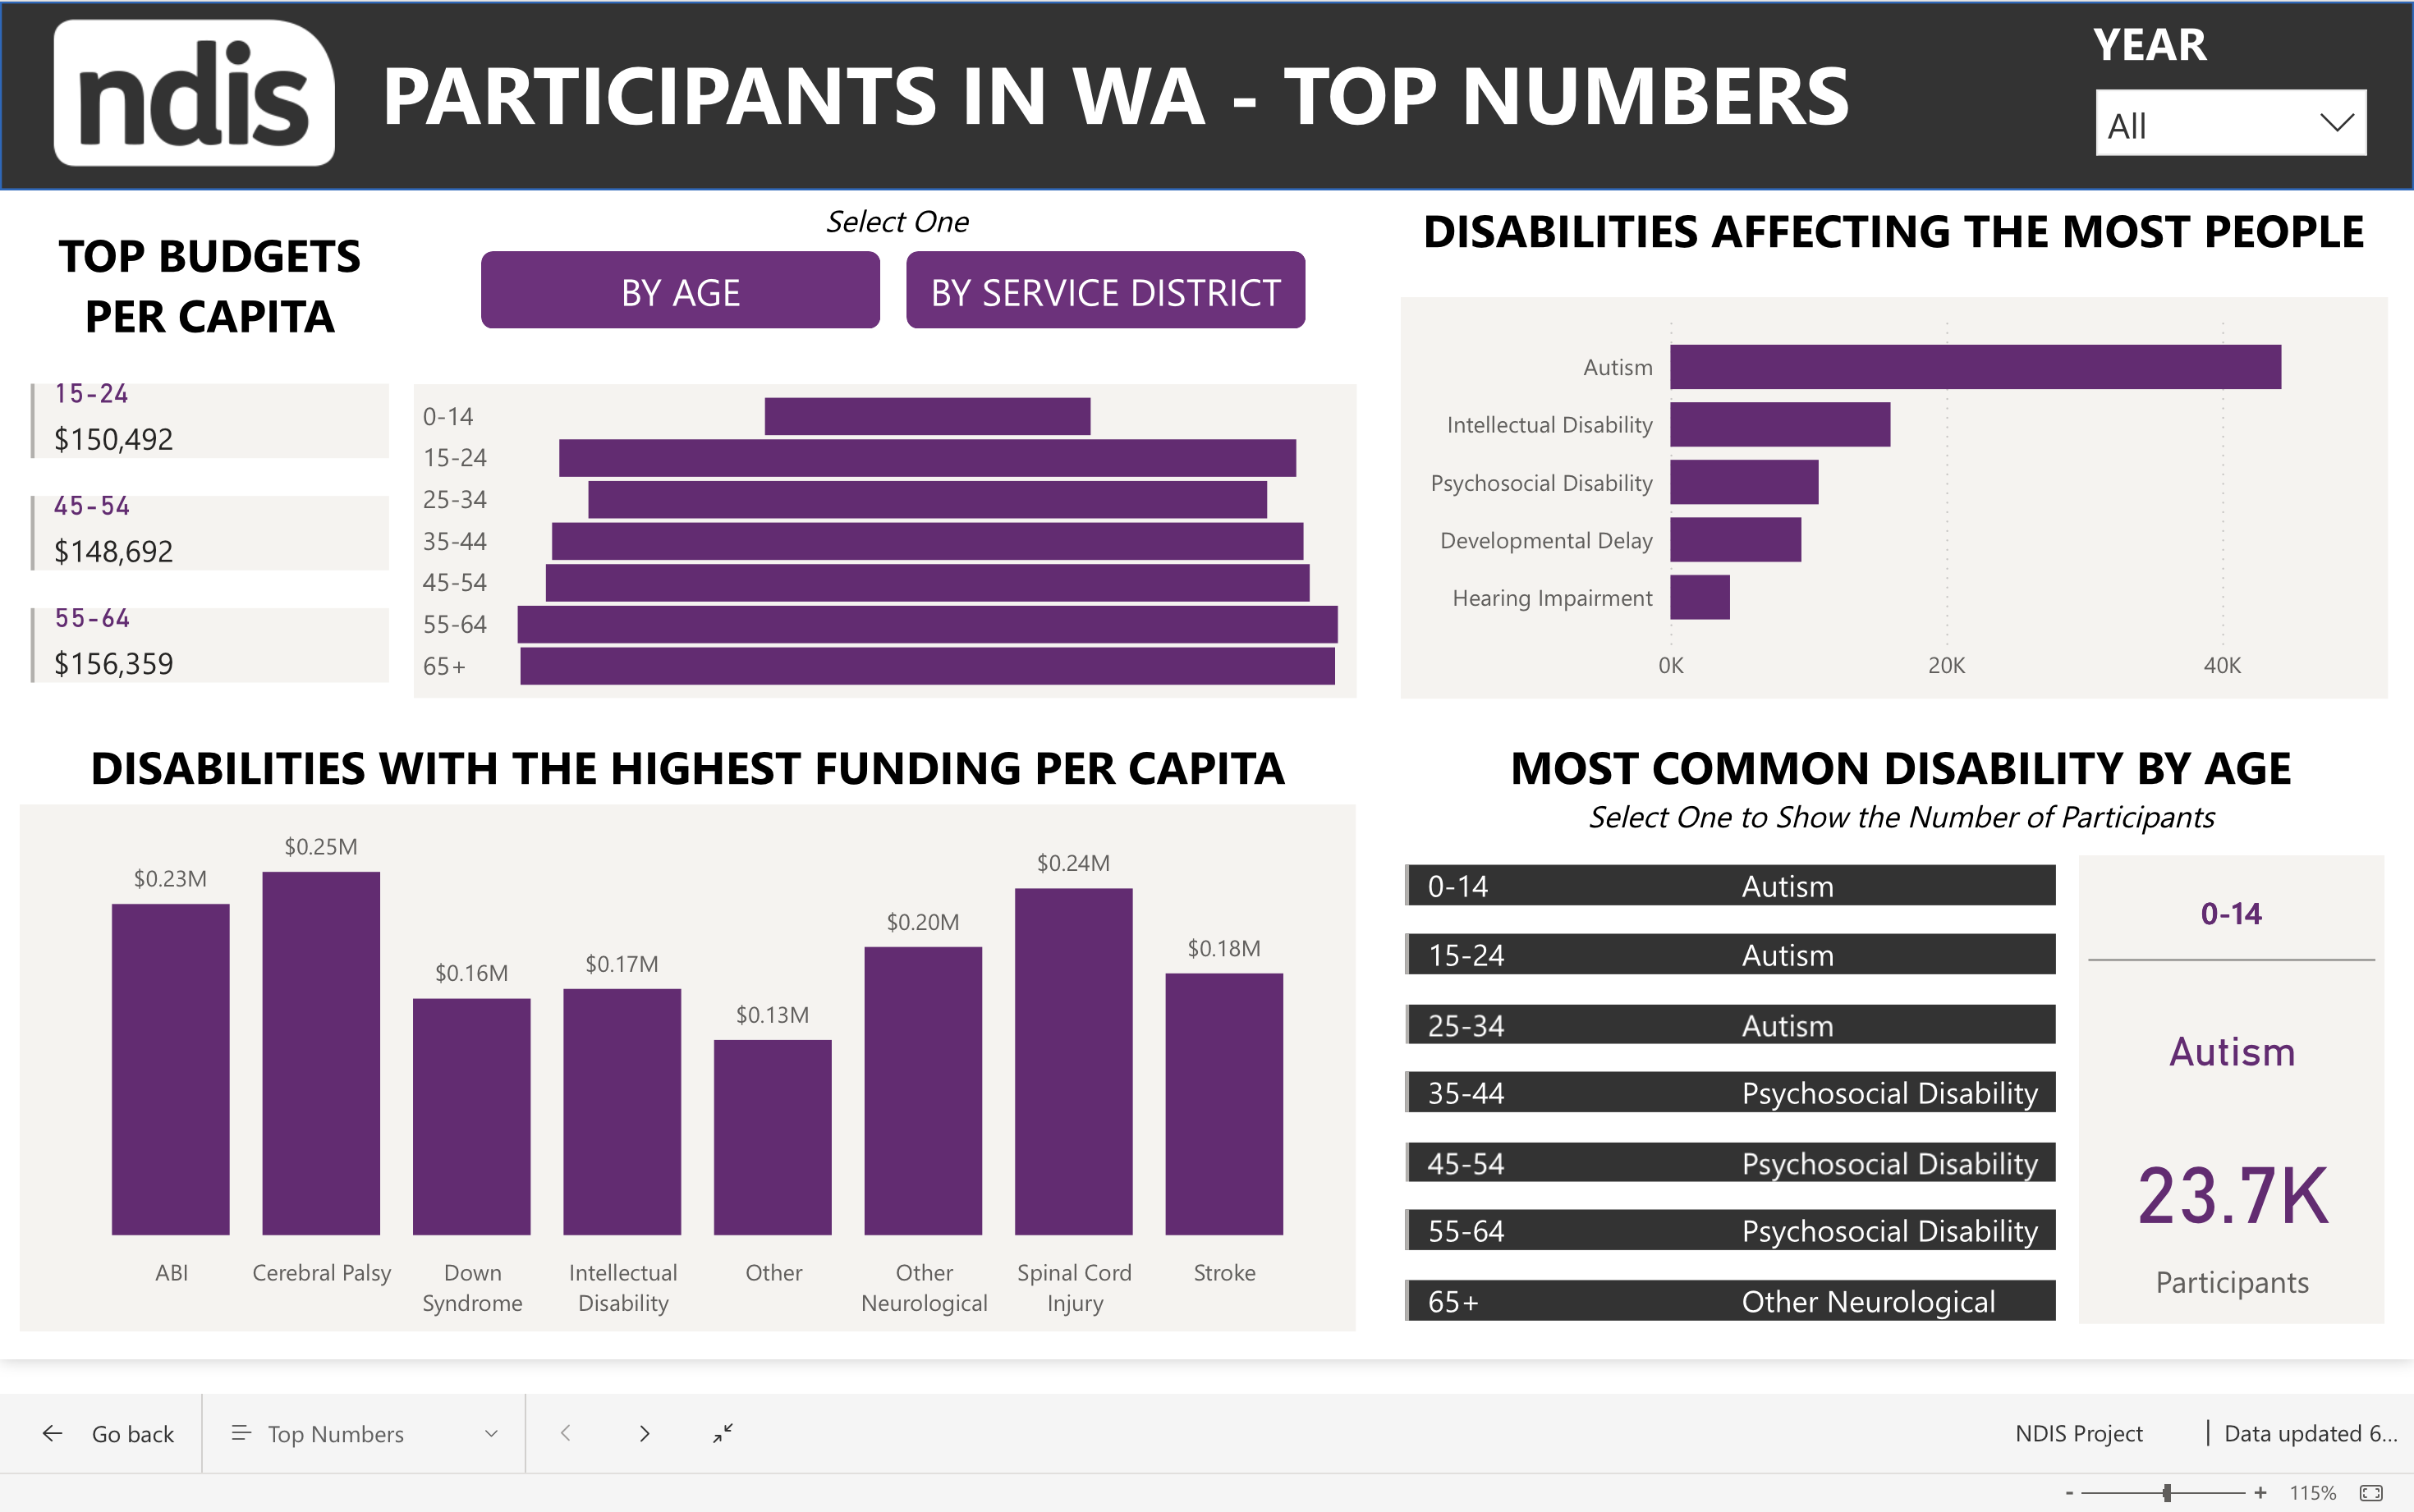

What the dashboard file says about the page in this screenshot:
{"tool":"powerbi","page":{"name":"Top Numbers","canvas":[1280,720],"ordinal":0},"visuals":[{"type":"shape","box":[0,0,1280,100],"z":0},{"type":"group","id":"g1","title":"Group 1","box":[10,4,997.6,87.9],"z":0,"group":"g4"},{"type":"textbox","title":"Participants in WA","box":[197.2,13.8,810.5,71.5],"z":0,"group":"g1"},{"type":"slicer","title":"Date","fields":{"Values":["Budgets.Date.Variation.Date Hierarchy.Year"]},"box":[1101.7,36.7,163.3,55],"z":0,"group":"g2"},{"type":"actionButton","title":"Budgets By Age","box":[255,132,211.7,41.2],"z":0,"group":"g3"},{"type":"image","title":"NDIS Logo","box":[10,4,186.9,87.9],"z":1000,"group":"g1"},{"type":"textbox","box":[18.1,112.2,185.9,81.6],"z":1000},{"type":"actionButton","title":"Top Budgets","box":[480.4,132,211.7,41.2],"z":1000,"group":"g3"},{"type":"group","id":"g2","title":"Group 3","box":[1101.7,36.7,163.3,55],"z":2000},{"type":"textbox","box":[386,100,179,37],"z":3000},{"type":"multiRowCard","title":"Top Budgets by Age","fields":{"Values":["Avg(Budgets.Total_Annualized_Budget)","Budgets.Age_Group"]},"box":[11,198,200,200],"z":4000},{"type":"textbox","box":[742.6,99.7,522.7,43],"z":5000},{"type":"clusteredColumnChart","fields":{"Category":["Budgets.Disability"],"Y":["Budgets.Weighted Average Budget"]},"box":[10.7,426,708.4,279.5],"z":7000},{"type":"barChart","title":"Disabilities Affecting the Most People","fields":{"Y":["Sum(Budgets.Total_Participants)"],"Category":["Budgets.Disability"]},"box":[742.6,156.3,523.7,213],"z":8000},{"type":"funnel","title":"Top Budgets by Age Funnel","fields":{"Category":["Budgets.Age_Group"],"Y":["Budgets.Weighted Average Budget"]},"box":[219.3,202.7,500,166.7],"z":9000},{"type":"textbox","box":[31.7,384.3,666.6,41.9],"z":10000},{"type":"textbox","box":[761.9,384.3,492,68],"z":12000},{"type":"multiRowCard","title":"Top Budgets by Age","fields":{"Values":["Budgets.Age_Group","Budgets.Disability"]},"box":[740.3,452.4,354.9,31.7],"z":13000},{"type":"multiRowCard","title":"Top Budgets by Age","fields":{"Values":["Budgets.Age_Group","Budgets.Disability"]},"box":[740,489.2,355,32.2],"z":14000},{"type":"multiRowCard","title":"Top Budgets by Age","fields":{"Values":["Budgets.Age_Group","Budgets.Disability"]},"box":[740,526.4,355,31.1],"z":15000},{"type":"multiRowCard","title":"Top Budgets by Age","fields":{"Values":["Budgets.Age_Group","Budgets.Disability"]},"box":[740,562.6,355,32.2],"z":16000},{"type":"multiRowCard","title":"Top Budgets by Age","fields":{"Values":["Budgets.Age_Group","Budgets.Disability"]},"box":[740,599.9,355,31.1],"z":17000},{"type":"multiRowCard","title":"Top Budgets by Age","fields":{"Values":["Budgets.Age_Group","Budgets.Disability"]},"box":[740,636.1,355,32.2],"z":18000},{"type":"multiRowCard","title":"Top Budgets by Age","fields":{"Values":["Budgets.Age_Group","Budgets.Disability"]},"box":[740,673.3,355,32.2],"z":19000},{"type":"group","id":"g3","title":"Group 2","box":[255,132,437,41],"z":20000},{"type":"group","id":"g4","title":"Group 5","box":[10,4,997.6,87.9],"z":21000},{"type":"cardVisual","fields":{"Data":["Min(Budgets.Disability)","Sum(Budgets.Total_Participants)"],"Rows":["Budgets.Age_Group"]},"box":[1102,452.4,162.1,248.3],"z":22000},{"type":"textbox","title":"Title","box":[1105,0,120,48.3],"z":23000}]}

Visuals, with their boxes on the page's 1280x720 design canvas (x1, y1, x2, y2). These are canvas units, not pixel positions in the 2414x1512 screenshot, which may show the page scaled, cropped or inside an application window:
shape: crop(0, 0, 1280, 100)
"Group 1" group: crop(10, 4, 1008, 92)
"Participants in WA" textbox: crop(197, 14, 1008, 85)
"Date" slicer: crop(1102, 37, 1265, 92)
"Budgets By Age" actionButton: crop(255, 132, 467, 173)
"NDIS Logo" image: crop(10, 4, 197, 92)
textbox: crop(18, 112, 204, 194)
"Top Budgets" actionButton: crop(480, 132, 692, 173)
"Group 3" group: crop(1102, 37, 1265, 92)
textbox: crop(386, 100, 565, 137)
"Top Budgets by Age" multiRowCard: crop(11, 198, 211, 398)
textbox: crop(743, 100, 1265, 143)
clusteredColumnChart - Budgets.Disability x Budgets.Weighted Average Budget: crop(11, 426, 719, 706)
"Disabilities Affecting the Most People" barChart: crop(743, 156, 1266, 369)
"Top Budgets by Age Funnel" funnel: crop(219, 203, 719, 369)
textbox: crop(32, 384, 698, 426)
textbox: crop(762, 384, 1254, 452)
"Top Budgets by Age" multiRowCard: crop(740, 452, 1095, 484)
"Top Budgets by Age" multiRowCard: crop(740, 489, 1095, 521)
"Top Budgets by Age" multiRowCard: crop(740, 526, 1095, 558)
"Top Budgets by Age" multiRowCard: crop(740, 563, 1095, 595)
"Top Budgets by Age" multiRowCard: crop(740, 600, 1095, 631)
"Top Budgets by Age" multiRowCard: crop(740, 636, 1095, 668)
"Top Budgets by Age" multiRowCard: crop(740, 673, 1095, 706)
"Group 2" group: crop(255, 132, 692, 173)
"Group 5" group: crop(10, 4, 1008, 92)
cardVisual - Min(Budgets.Disability) x Sum(Budgets.Total_Participants): crop(1102, 452, 1264, 701)
"Title" textbox: crop(1105, 0, 1225, 48)
